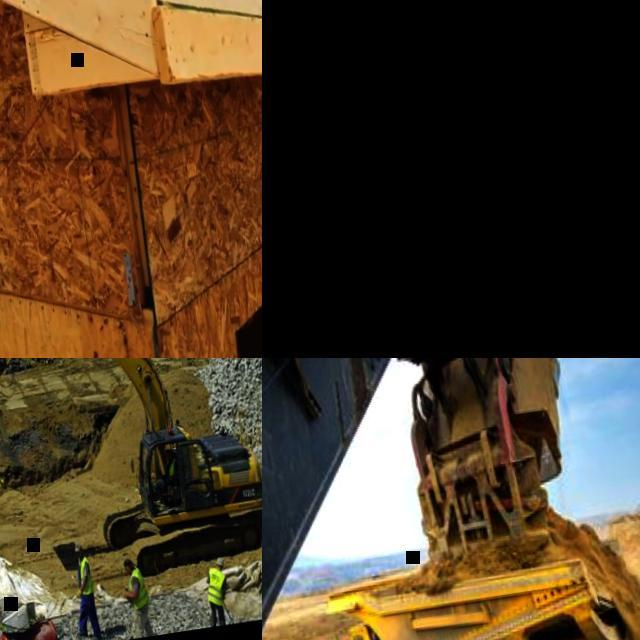helmet: (217, 556, 226, 564)
vest: (128, 566, 154, 610), (207, 566, 231, 604), (76, 556, 98, 594), (167, 458, 180, 476)
